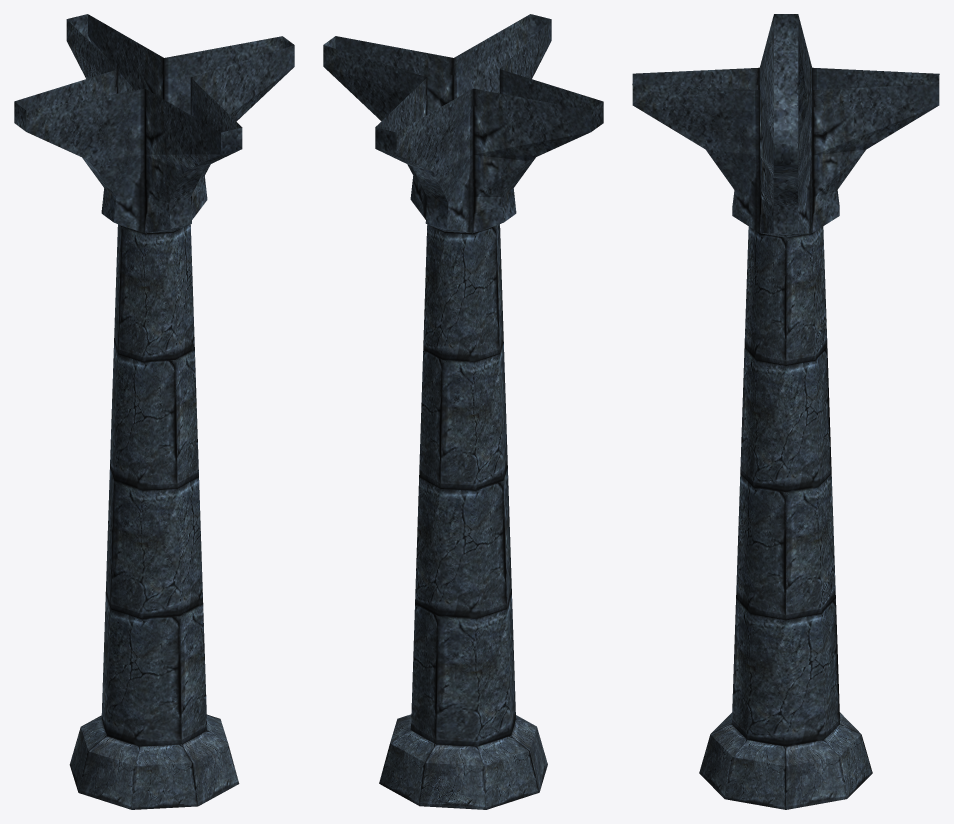
File: Column.FBX
The picture shows the model from 3 angles, left to right: view 1: azimuth 30°, elevation 25°; view 2: azimuth 150°, elevation 25°; view 3: azimuth 270°, elevation 25°; orthographic projection.
Parts seen in each view (by area): view 1: Column; view 2: Column; view 3: Column.
Boxes of the visible parts, x1,y1,x2,y2 form: Column: (14,14,294,809); Column: (323,14,603,809); Column: (632,14,939,809).
Bounding box in the file's own units: 28.16 × 70.27 × 28.16.
